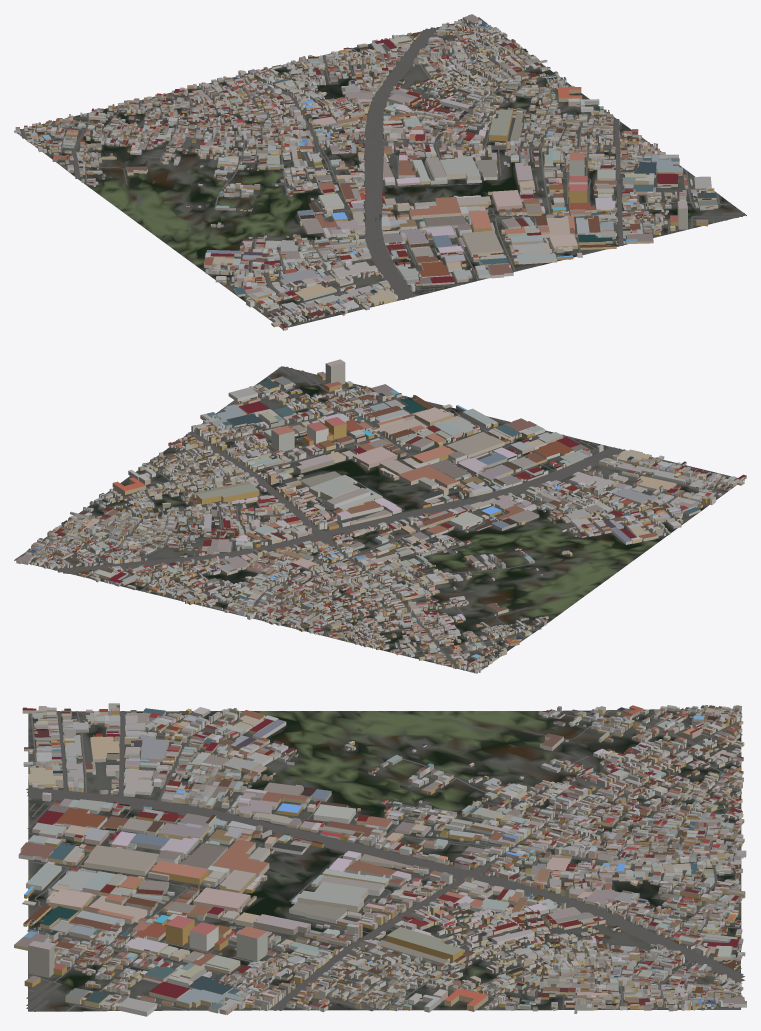
3 renders of one model, top to bottom at view 1: azimuth 30°, elevation 25°; view 2: azimuth 150°, elevation 25°; view 3: azimuth 270°, elevation 25°, orthographic. The views are drawn at different scales.
Visible parts, largest first — view 1: buildings, ground, roads; view 2: buildings, ground, roads; view 3: buildings, ground, roads.
Boxes of the visible parts, x1=… form: buildings: x1=14, y1=14, x2=718, y2=330; ground: x1=14, y1=21, x2=746, y2=328; roads: x1=20, y1=17, x2=744, y2=327; buildings: x1=16, y1=359, x2=746, y2=673; ground: x1=14, y1=366, x2=744, y2=673; roads: x1=14, y1=366, x2=737, y2=672; buildings: x1=14, y1=703, x2=746, y2=1016; ground: x1=28, y1=709, x2=741, y2=1011; roads: x1=26, y1=709, x2=745, y2=1011.
Bounding box in the file's own units: 1438 × 65.5 × 1440.
